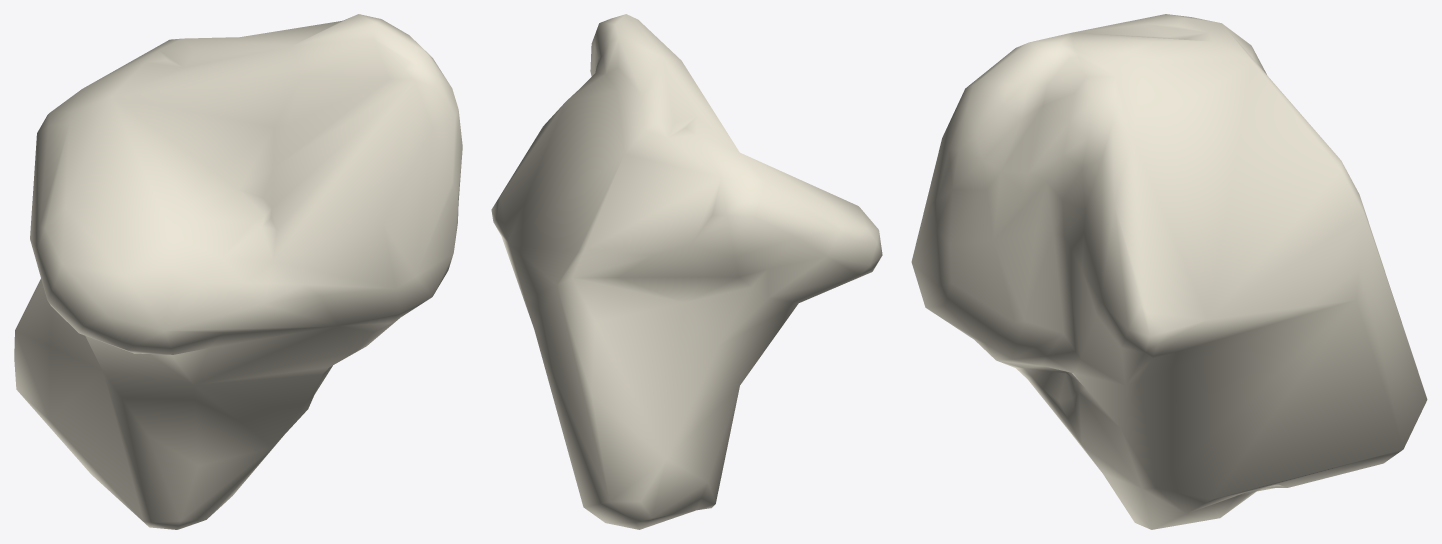
3 renders of one model, left to right at view 1: azimuth 30°, elevation 25°; view 2: azimuth 150°, elevation 25°; view 3: azimuth 270°, elevation 25°, orthographic. The views are drawn at different scales.
Visible parts, largest first — view 1: ZA_04ddba2f2d5778f5; view 2: ZA_04ddba2f2d5778f5; view 3: ZA_04ddba2f2d5778f5.
Boxes of the visible parts, box(x1,y1,x2,y2) form: ZA_04ddba2f2d5778f5: box(14, 14, 462, 529); ZA_04ddba2f2d5778f5: box(491, 14, 882, 529); ZA_04ddba2f2d5778f5: box(911, 14, 1427, 529).
Size of the model in its own units: 0.0177 by 0.0208 by 0.0175.
